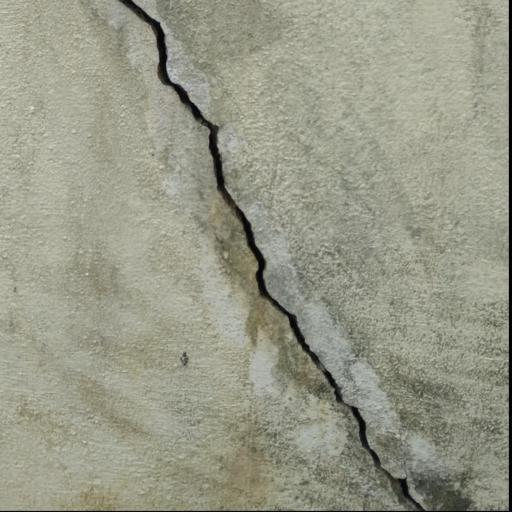major_crack: (111, 0, 443, 512)
